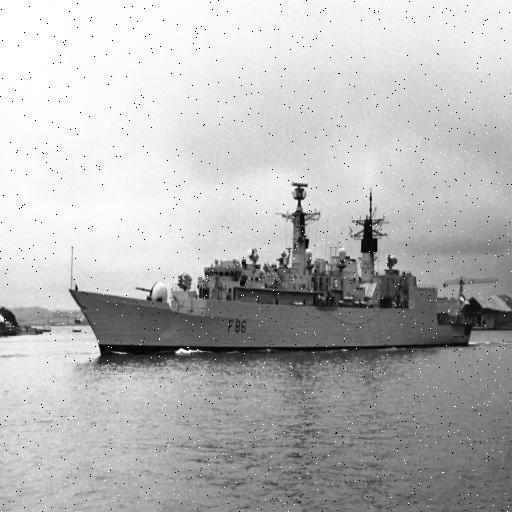Fragata: (65, 162, 479, 371)
